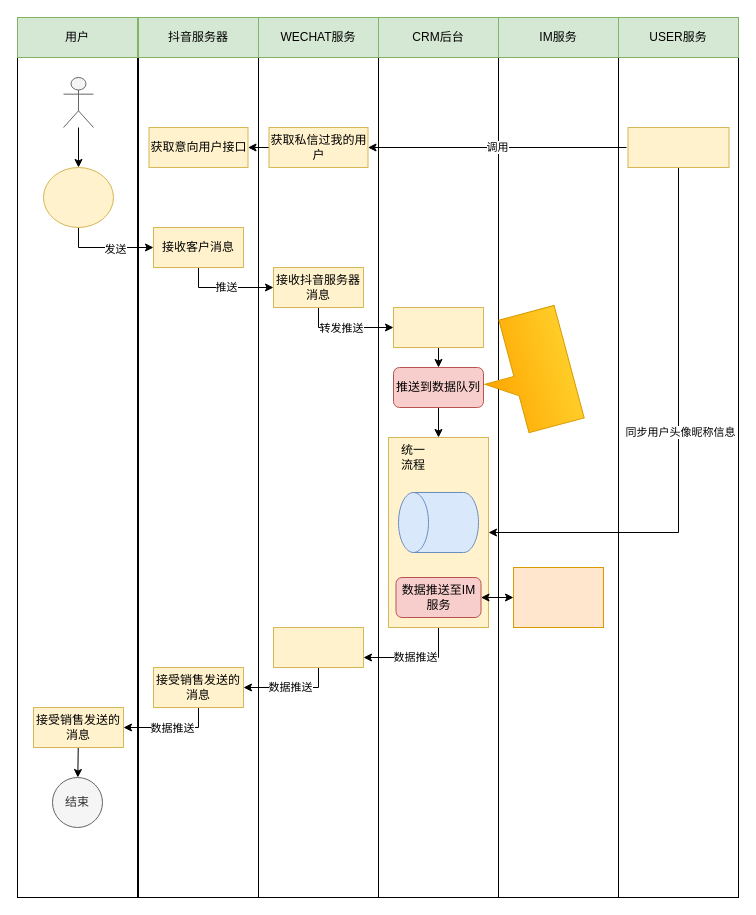
The diagram is 756 pixels wide and 915 high, and some of its shapes have lost their labels. The shapes that lost their labels are listed below. From the top down, each one's centre as x and y in pixels, then its label:
the point at 678,147: 轮询任务
the point at 78,197: 进入企业号留言
the point at 438,327: 接收WECHAT服务器消息
the point at 526,372: 用户数据只有openid
the point at 438,522: 抖音用户数据
the point at 558,597: IM服务层业务
the point at 318,647: 接受CRM数据
